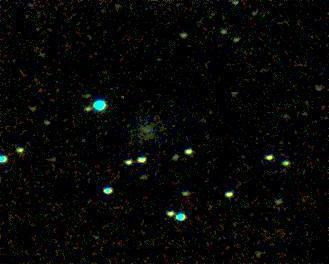star: (242, 237, 272, 264)
